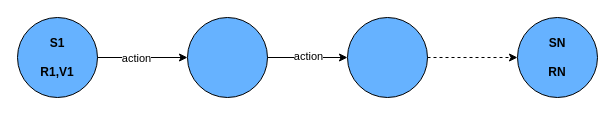
Image size: 615x115. Some labels were removed from this diagram. The shapes that lost their labels are listed below. From the top down, each one's centre as x and y in pixels, then its label:
point (227, 57): S2 R2,V2
point (387, 57): S3 R3,V3
